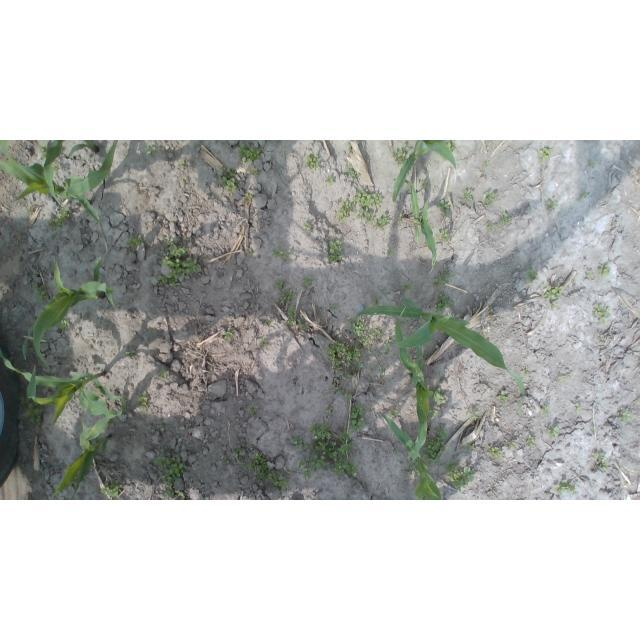Maize: (354, 295, 525, 412), (1, 140, 120, 252), (22, 255, 115, 370), (1, 349, 124, 432), (52, 397, 127, 500), (379, 410, 444, 500), (394, 322, 434, 467), (392, 141, 457, 204), (404, 178, 437, 274), (68, 141, 99, 160)
Weeds: (309, 423, 359, 477), (246, 452, 289, 491), (324, 340, 364, 372), (162, 256, 200, 288), (421, 424, 448, 465), (444, 460, 476, 493), (153, 453, 187, 482), (19, 396, 48, 427), (358, 328, 385, 353), (48, 208, 72, 231), (354, 189, 383, 208), (236, 142, 261, 164), (165, 235, 188, 257), (349, 403, 365, 433), (335, 200, 357, 221), (349, 315, 368, 338), (219, 167, 237, 191), (433, 267, 454, 287), (392, 143, 411, 165), (436, 294, 455, 315), (100, 482, 123, 499), (33, 282, 50, 304), (593, 303, 610, 324), (553, 479, 576, 494), (428, 387, 446, 405), (373, 212, 391, 230), (543, 285, 564, 300), (328, 239, 342, 261), (593, 452, 609, 471), (161, 475, 174, 498), (359, 206, 375, 224), (136, 389, 148, 412), (345, 163, 361, 180), (272, 248, 292, 261), (305, 154, 320, 169), (540, 148, 553, 165), (488, 446, 505, 459), (526, 269, 540, 284), (128, 235, 143, 249), (499, 212, 512, 228), (279, 292, 295, 305), (38, 144, 48, 163), (288, 305, 297, 326), (546, 197, 559, 211), (437, 229, 450, 243), (496, 390, 509, 404), (439, 199, 451, 214), (465, 408, 480, 420), (444, 140, 457, 153), (58, 317, 71, 330), (273, 279, 286, 292), (598, 263, 610, 277), (546, 425, 560, 437), (619, 411, 632, 423), (484, 192, 497, 204), (291, 436, 304, 448), (303, 221, 316, 233), (144, 144, 157, 155), (231, 445, 241, 459), (427, 406, 439, 417), (156, 274, 169, 284), (298, 457, 309, 468), (332, 304, 341, 317), (463, 191, 473, 202), (303, 471, 313, 482), (296, 319, 308, 328), (250, 167, 260, 177), (370, 293, 380, 303), (224, 329, 233, 340), (341, 372, 352, 381), (409, 468, 420, 477), (304, 277, 313, 288), (486, 222, 498, 230), (528, 435, 536, 447), (333, 387, 344, 395), (465, 443, 476, 451), (177, 492, 186, 501), (160, 369, 169, 378), (259, 337, 267, 347), (383, 347, 391, 357), (125, 349, 136, 356), (326, 176, 334, 185), (176, 159, 184, 168), (542, 406, 550, 415), (401, 282, 409, 291), (248, 406, 256, 415), (344, 392, 352, 401), (52, 163, 59, 173), (386, 335, 392, 346), (585, 270, 593, 278), (420, 180, 428, 188), (248, 248, 255, 257), (263, 319, 272, 326), (557, 376, 564, 385), (580, 193, 589, 200), (388, 248, 395, 257), (397, 213, 404, 222), (553, 300, 560, 308), (589, 161, 597, 168), (483, 161, 491, 168), (391, 408, 398, 416), (589, 428, 596, 435), (245, 193, 253, 199), (517, 404, 523, 412), (183, 177, 189, 184), (597, 333, 603, 340), (159, 424, 165, 431), (27, 206, 34, 212), (348, 144, 353, 152), (576, 405, 581, 413), (379, 367, 385, 373), (408, 353, 413, 360), (524, 371, 529, 378), (304, 444, 309, 451), (511, 442, 516, 449), (566, 374, 572, 379), (327, 408, 333, 413), (636, 397, 640, 404), (44, 305, 49, 310), (612, 221, 616, 226), (224, 456, 228, 460)
